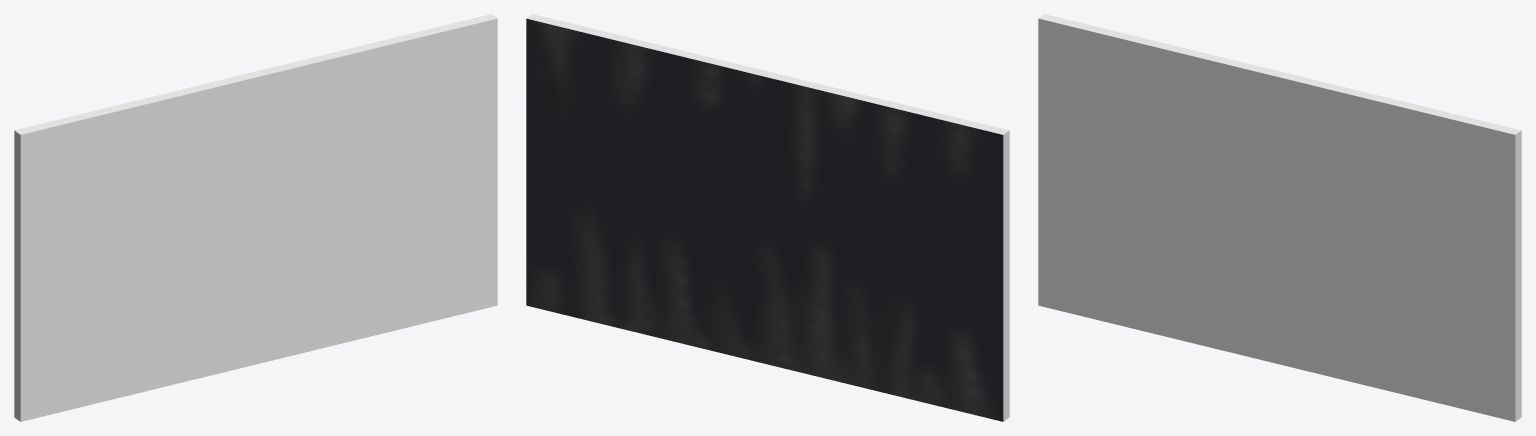
File: StageScreen.fbx
The picture shows the model from 3 angles, left to right: view 1: azimuth 30°, elevation 25°; view 2: azimuth 150°, elevation 25°; view 3: azimuth 330°, elevation 25°; orthographic projection.
Visible parts, largest first — view 1: Screen; view 2: Screen; view 3: Screen.
Boxes of the visible parts, bbox=[...] form: Screen: bbox=[14, 14, 497, 421]; Screen: bbox=[526, 14, 1009, 421]; Screen: bbox=[1038, 14, 1521, 421].
Bounding box in the file's own units: 35.84 × 20.61 × 0.8108.
